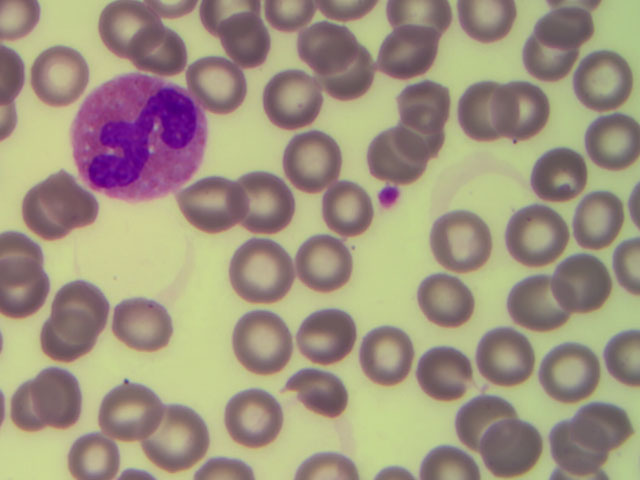Platelets: (374, 173, 404, 210)
RBC: (54, 413, 118, 480), (545, 413, 609, 480), (97, 1, 161, 67), (125, 13, 189, 79), (188, 57, 252, 123), (217, 11, 281, 77), (259, 65, 323, 131), (282, 128, 346, 194), (311, 177, 375, 243), (241, 165, 305, 231), (190, 177, 254, 243), (61, 171, 125, 237), (19, 175, 83, 241), (49, 271, 113, 337), (36, 307, 100, 373), (112, 296, 176, 362), (100, 369, 164, 435), (24, 364, 88, 430), (134, 411, 198, 477), (218, 379, 282, 445), (229, 321, 293, 387), (229, 247, 293, 313), (299, 237, 363, 303), (297, 293, 361, 359), (285, 356, 349, 422), (350, 323, 414, 389), (399, 337, 463, 403), (449, 382, 513, 448), (471, 399, 535, 465), (478, 315, 542, 381), (426, 274, 490, 340), (426, 217, 490, 283), (497, 207, 561, 273), (542, 246, 606, 312), (509, 276, 573, 342), (545, 337, 609, 403), (565, 390, 629, 456), (567, 188, 631, 254), (541, 137, 605, 203), (576, 120, 640, 186), (576, 47, 640, 113), (515, 29, 579, 95), (524, 5, 588, 71), (501, 75, 565, 141), (451, 77, 515, 143), (397, 67, 461, 133), (391, 104, 455, 170), (368, 124, 432, 190), (375, 28, 439, 94), (323, 53, 387, 119), (297, 14, 361, 80), (1, 251, 64, 317)
WBC: (73, 71, 211, 202)
